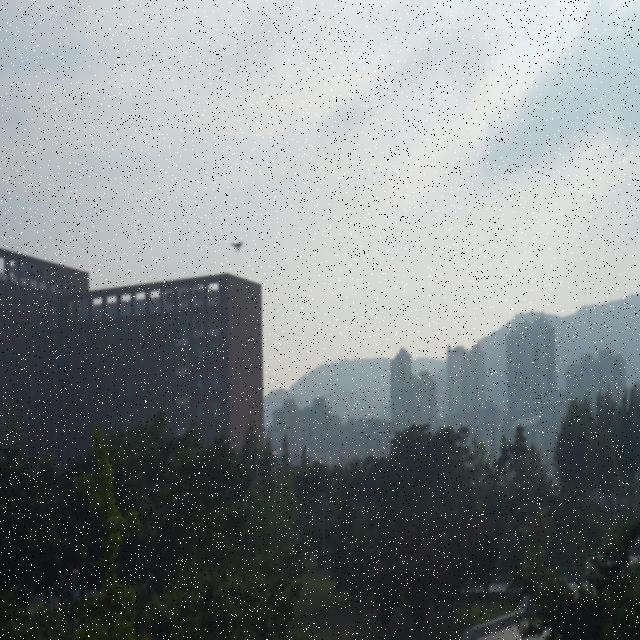UAV: (229, 240, 243, 252)
